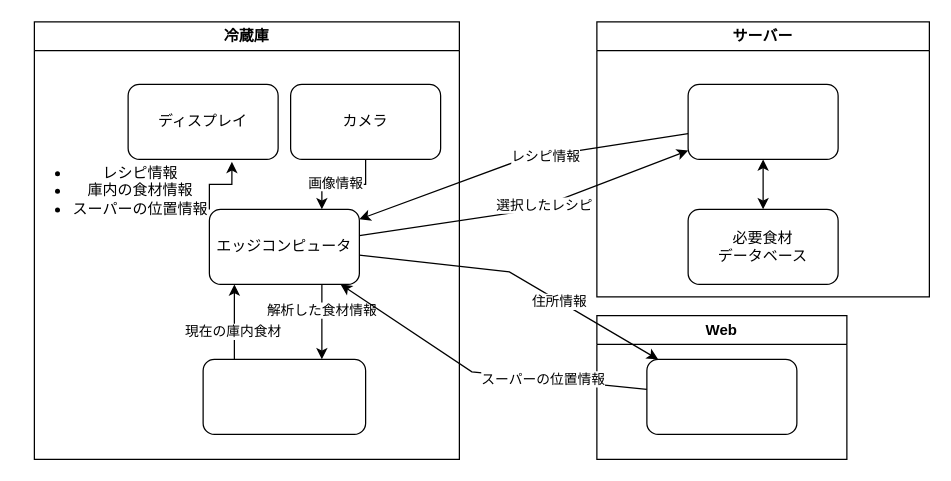
The diagram is 951 pixels wide and 481 high, and some of its shapes have lost their labels. The shapes that lost their labels are listed below. From the top down, each one's centre as x and y in pixels, then its label:
pixel 762 121: レシピデータベース
pixel 284 396: 庫内食材データベース
pixel 721 396: Map
